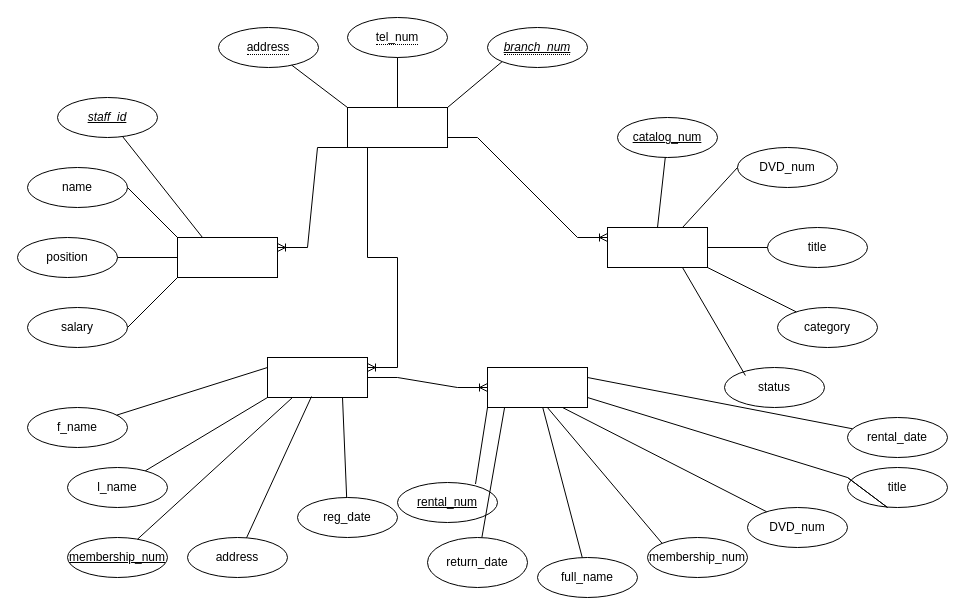
Image size: 965x615. Some labels were removed from this diagram. The centre of each missing label's shape, as x and y in pixels:
Branch: point (397, 127)
DVD: point (657, 247)
Member: point (317, 377)
Rental: point (537, 387)
Staff: point (227, 257)
